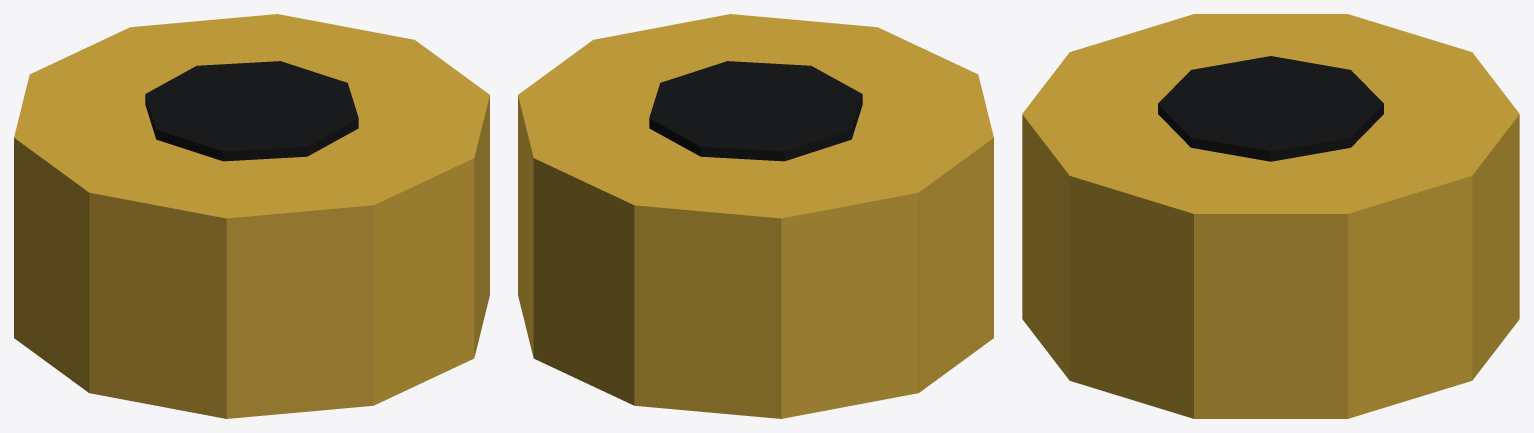
Rendered from wire_au.fbx.
The picture shows the model from 3 angles, left to right: view 1: azimuth 30°, elevation 25°; view 2: azimuth 150°, elevation 25°; view 3: azimuth 270°, elevation 25°; orthographic projection. The views are drawn at different scales.
Parts seen in each view (by area): view 1: wire_au; view 2: wire_au; view 3: wire_au.
Boxes of the visible parts, box(x1,y1,x2,y2) form: wire_au: box(14, 14, 489, 418); wire_au: box(518, 14, 993, 418); wire_au: box(1022, 14, 1519, 418).
Size of the model in its own units: 0.6277 by 0.33 by 0.66.
